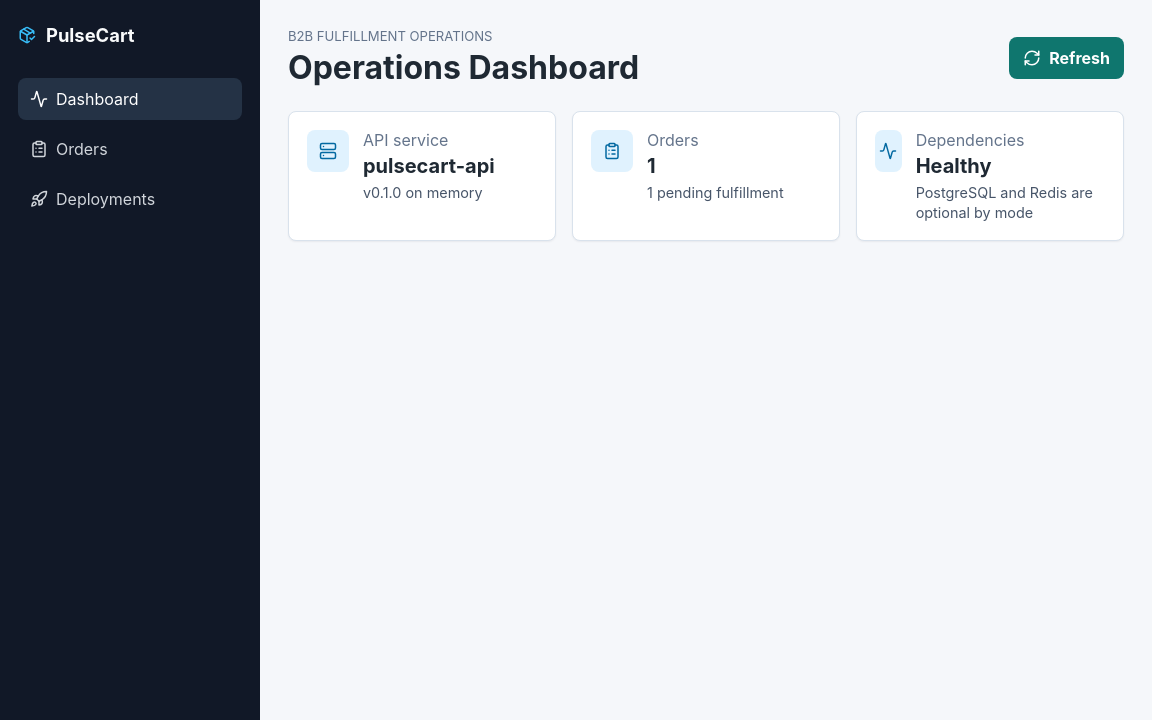
Test: PulseCart web app › renders the orders page
Expected: the heading "pulsecart-api" is shown, [363,154,495,178]
Step 1. Click the button "Orders" → (130, 149), box [18,128,242,170]
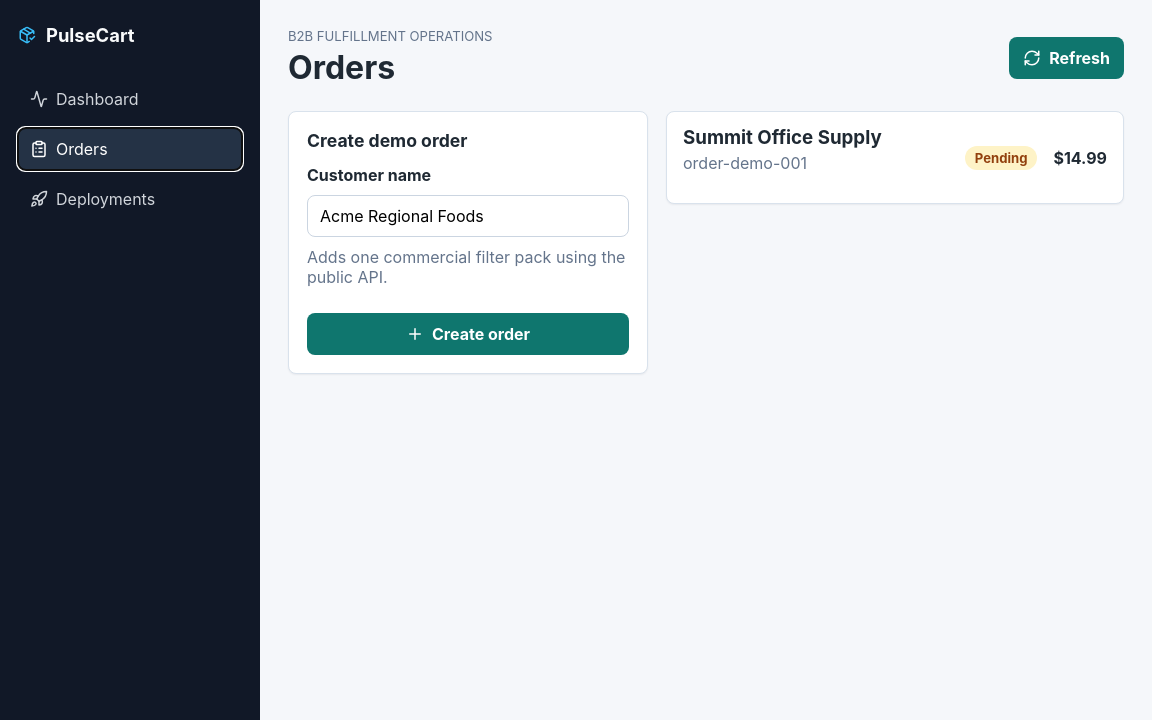
Expected: the heading "Orders" is shown, [288,48,395,87]
Expected: the heading "Summit Office Supply" is shown, [683,126,882,149]
Expected: the button "Create order" is shown, [307,313,629,355]
